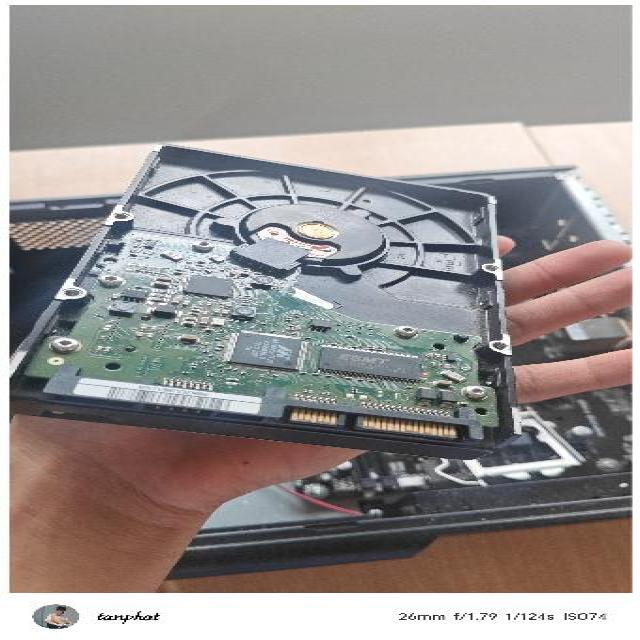DISK: (11, 140, 524, 460)
